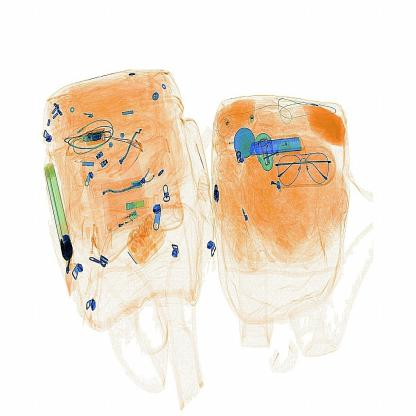pliers: (247, 130, 316, 160)
